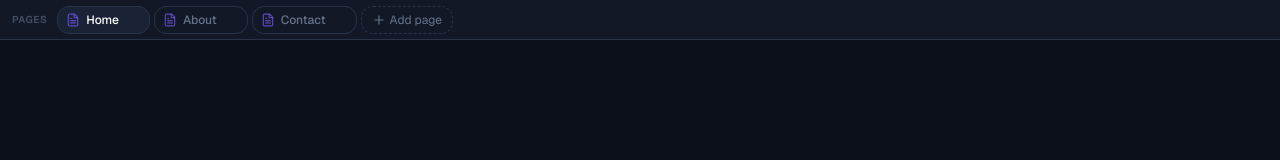
Test case: PageTabs adding › adds a page and enters rename mode with a default name
Click the button with test id "page-tab-add": (407, 20) top-left (361, 6), bottom-right (453, 34)
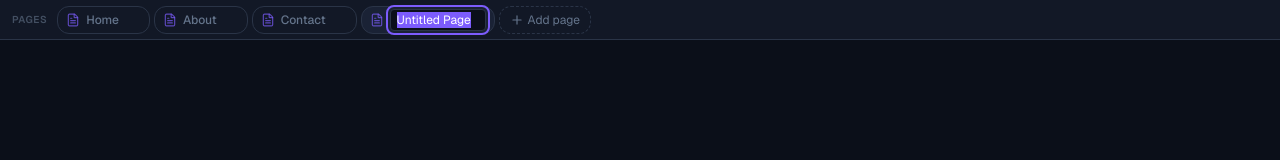
Expected: the field with test id "page-rename-input" holds "Untitled Page", top-left (390, 8), bottom-right (486, 30)
